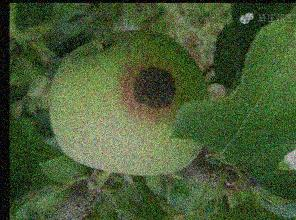rotten apple: (48, 27, 217, 174)
